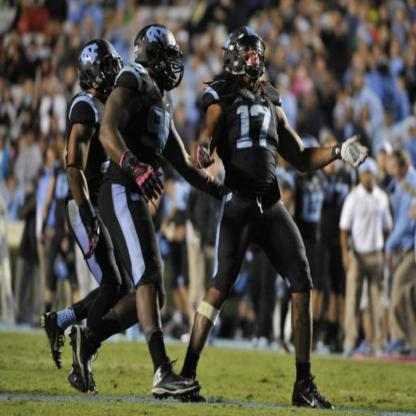face: (161, 47, 183, 83), (241, 43, 261, 78), (103, 63, 125, 91), (388, 159, 401, 177), (364, 172, 374, 189), (378, 151, 387, 168)
